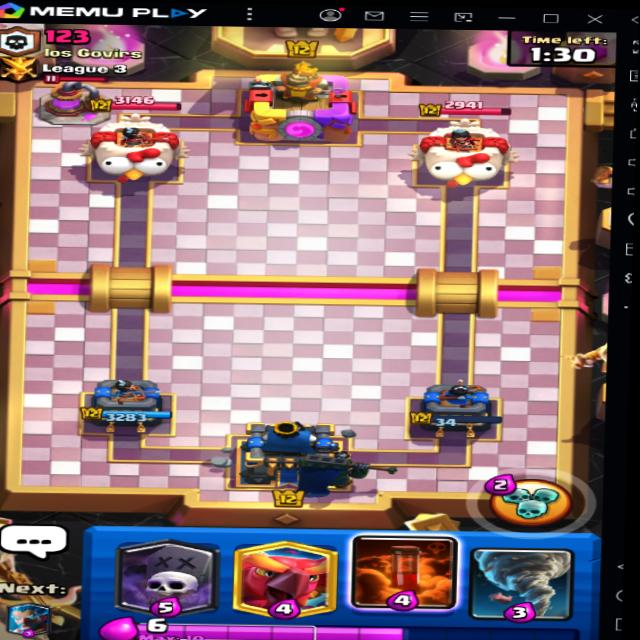Pump: (37, 75, 108, 122)
